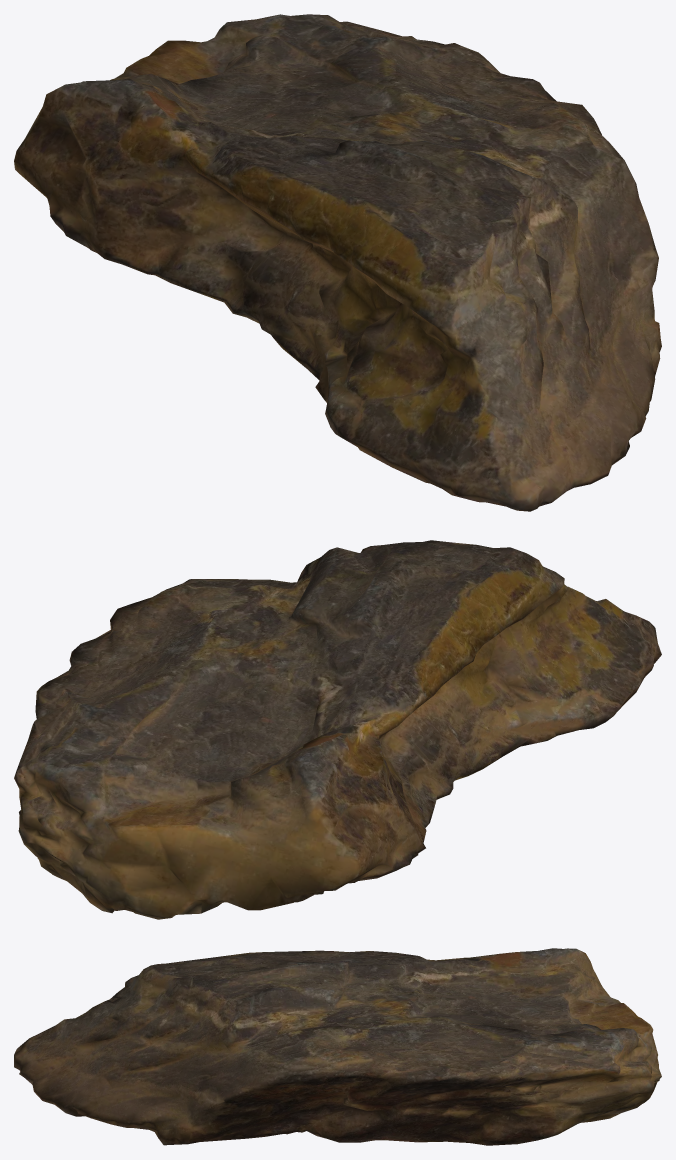
The model's file is rock_09.glb.
3 views of the same model, one above another, from view 1: azimuth 30°, elevation 25°; view 2: azimuth 150°, elevation 25°; view 3: azimuth 270°, elevation 25° (orthographic). The views are drawn at different scales.
Parts seen in each view (by area): view 1: rock_09_lod0; view 2: rock_09_lod0; view 3: rock_09_lod0.
Part boxes in pixels (x1=…): rock_09_lod0: x1=14, y1=14, x2=661, y2=511; rock_09_lod0: x1=14, y1=540, x2=661, y2=919; rock_09_lod0: x1=14, y1=948, x2=661, y2=1145.
Size of what is drawn, in the model's own units: 0.074 by 0.0328 by 0.1446.
1 material, 1 textured.
